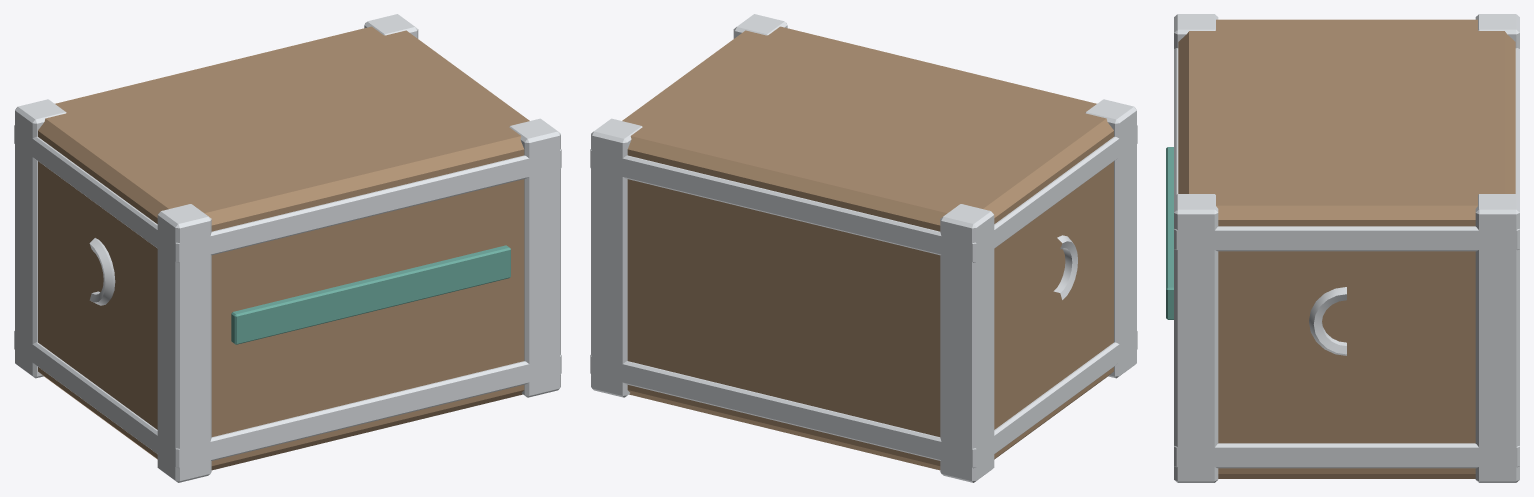
Rendered from submarine-interior-and-control-room-stores-crate-small-d73481d3__36512.glb.
3 views of the same model, side by side, from view 1: azimuth 30°, elevation 25°; view 2: azimuth 150°, elevation 25°; view 3: azimuth 270°, elevation 25° (orthographic). The views are drawn at different scales.
Visible parts, largest first — view 1: stores-crate-small; view 2: stores-crate-small; view 3: stores-crate-small.
Part boxes in pixels (x1=…): stores-crate-small: x1=14, y1=14, x2=561, y2=482; stores-crate-small: x1=590, y1=14, x2=1137, y2=482; stores-crate-small: x1=1166, y1=14, x2=1519, y2=482.
Bounding box in the file's own units: 0.5452 × 0.3412 × 0.399.
